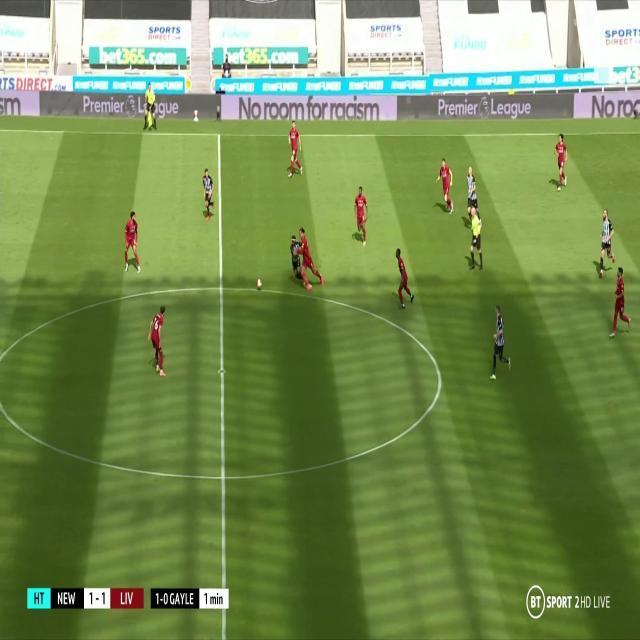ball: (256, 277, 264, 291)
player: (595, 205, 619, 283), (489, 304, 511, 386), (608, 268, 632, 343), (147, 306, 170, 379), (298, 228, 325, 290), (122, 210, 143, 274), (395, 245, 413, 316), (283, 119, 304, 179), (352, 186, 370, 248), (464, 166, 481, 230), (552, 133, 570, 193), (289, 233, 304, 288), (201, 168, 216, 222)
referee: (465, 207, 483, 274), (141, 82, 159, 133)
